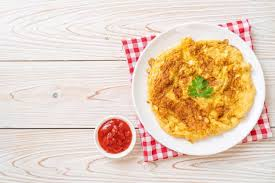Telur dadar: (146, 39, 255, 141)
